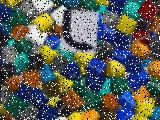Left: (60, 10, 99, 54)
